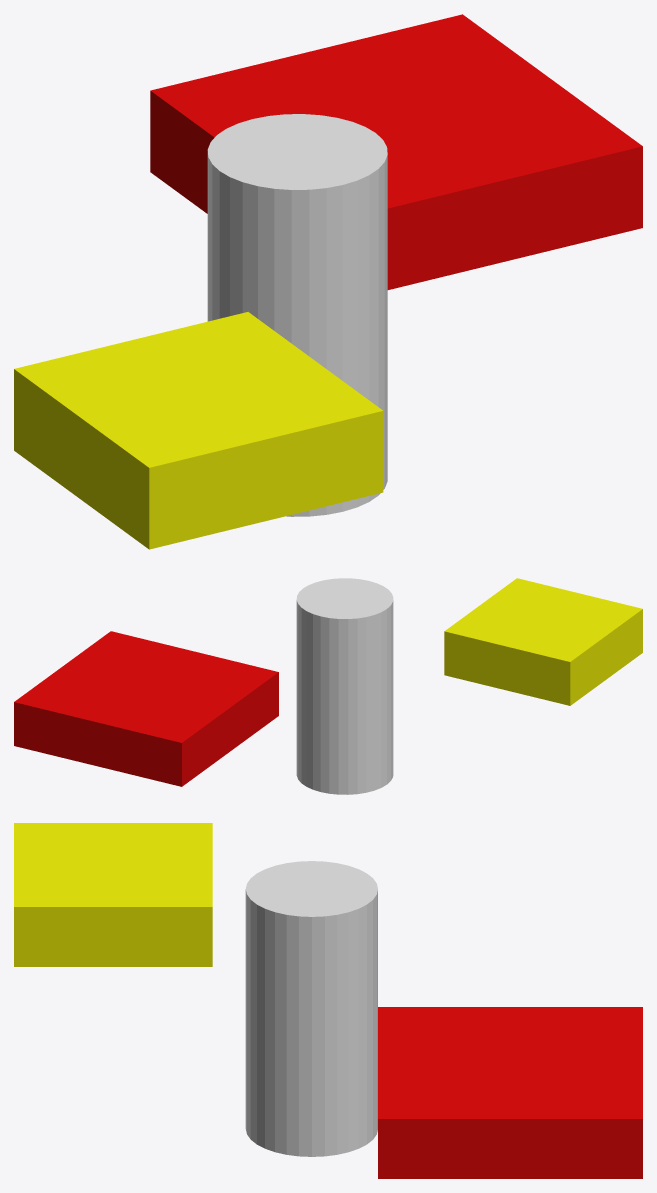
Rendered from stage.glb.
3 views of the same model, one above another, from view 1: azimuth 30°, elevation 25°; view 2: azimuth 150°, elevation 25°; view 3: azimuth 270°, elevation 25° (orthographic). The views are drawn at different scales.
Parts seen in each view (by area): view 1: Platform2, Obstacle1, Cylinder; view 2: Platform2, Cylinder, Obstacle1; view 3: Platform2, Cylinder, Obstacle1.
Part boxes in pixels (x1,y1,x2,y2): Platform2: (150,14,642,289); Obstacle1: (14,312,383,549); Cylinder: (207,114,387,516); Platform2: (14,631,278,786); Cylinder: (296,578,393,794); Obstacle1: (444,578,642,705); Platform2: (378,1007,642,1178); Cylinder: (245,861,377,1156); Obstacle1: (14,823,212,966).
Size of what is drawn, in the model's own units: 9.5 by 4 by 9.5.
